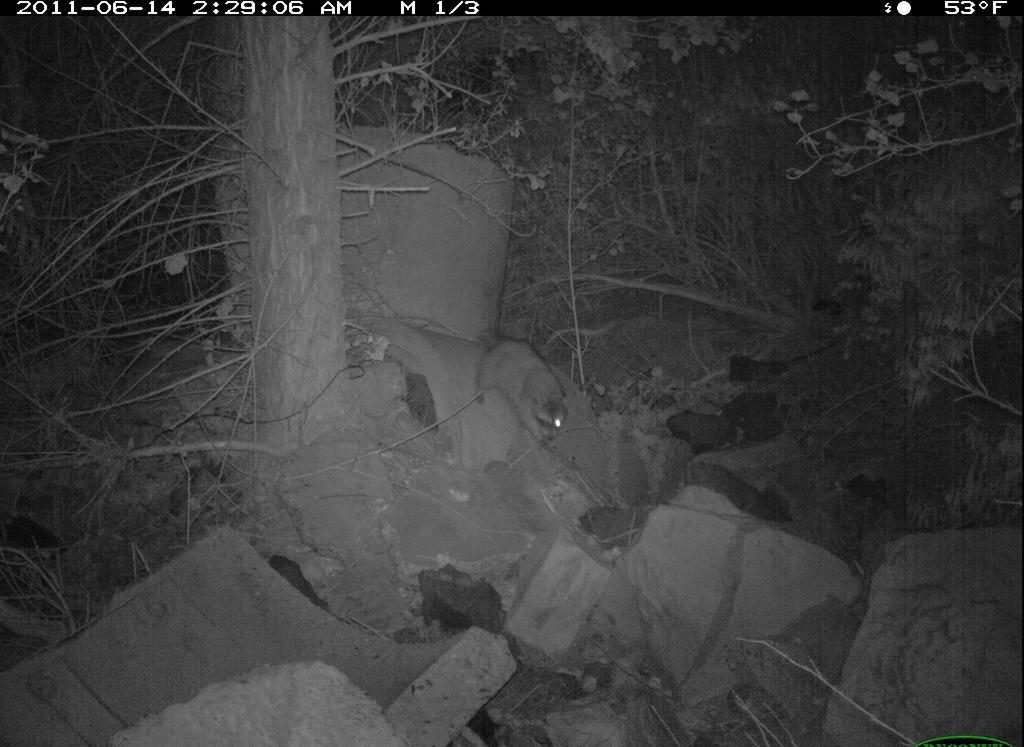raccoon: (470, 327, 578, 452)
